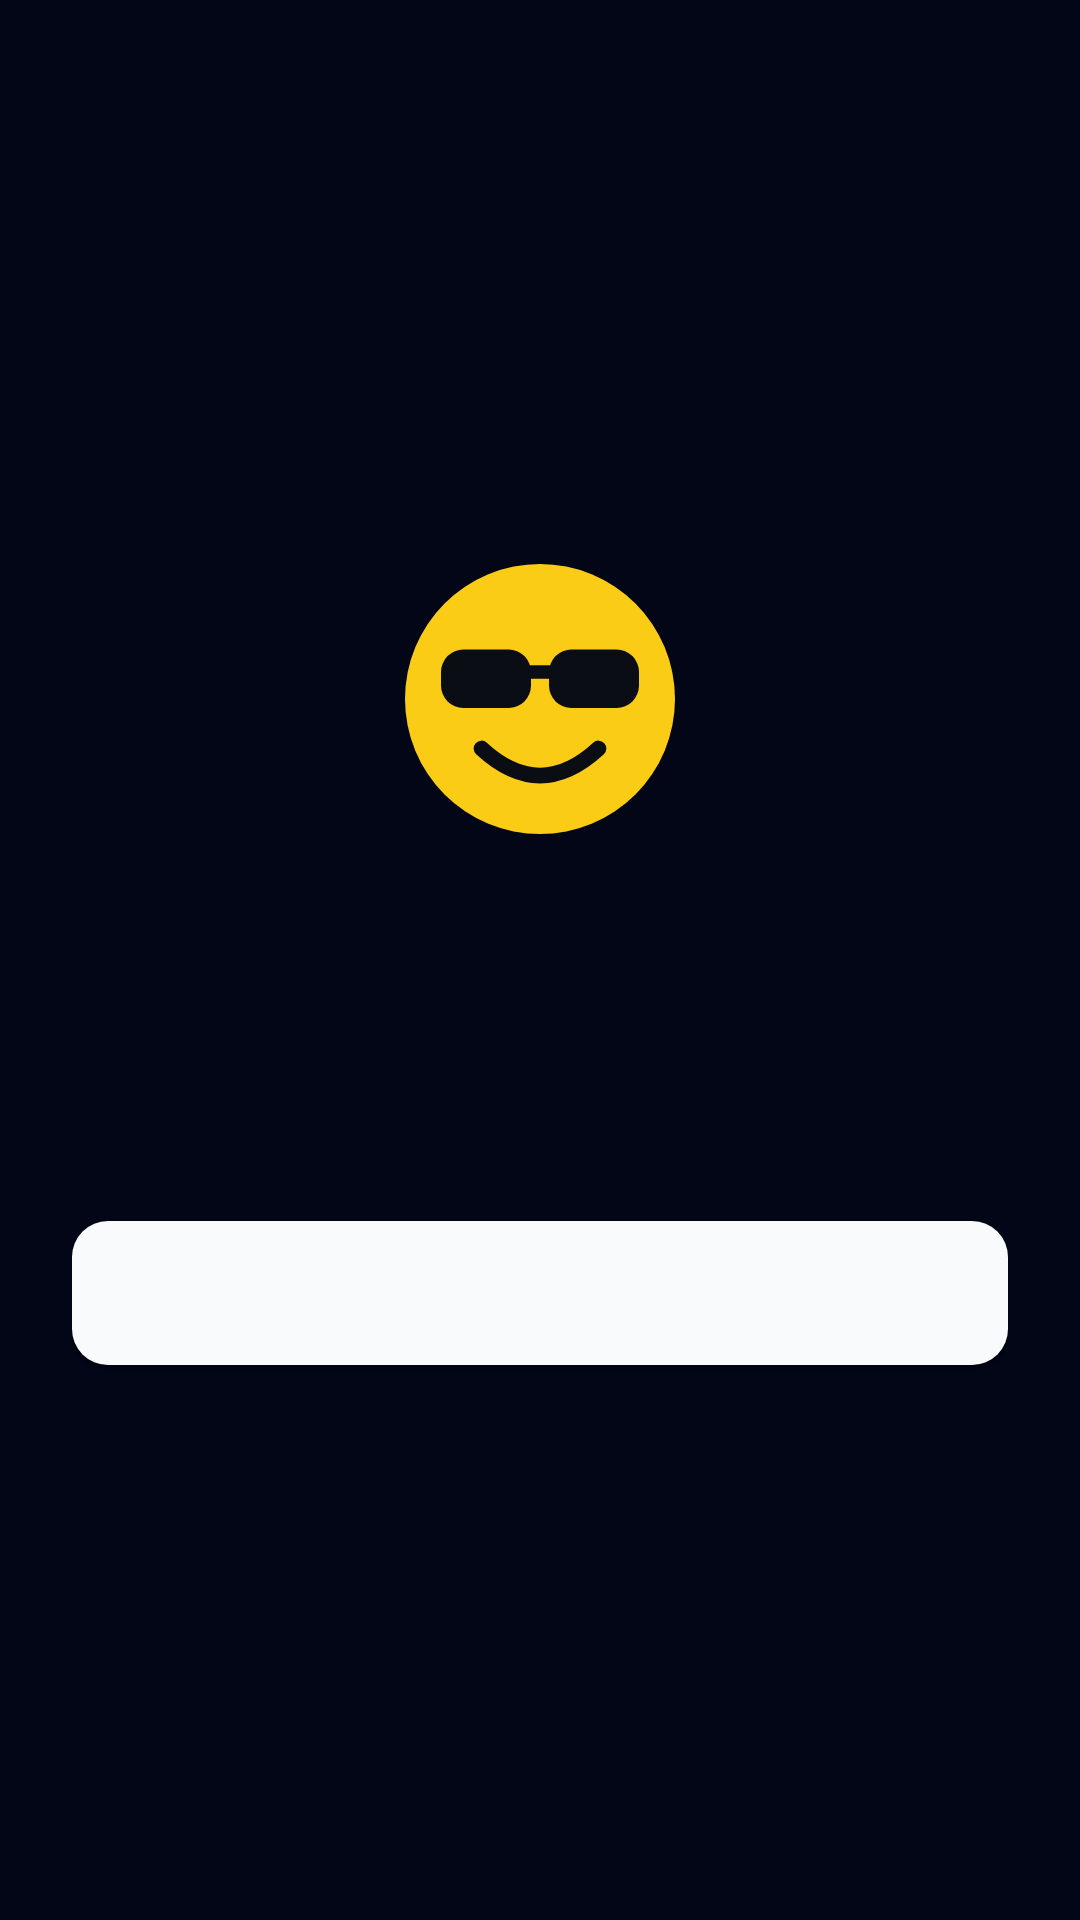

Where to tap for icons on this 1080 × 1920 app screen, as point (x, y):
mood vibing: point (540, 699)
